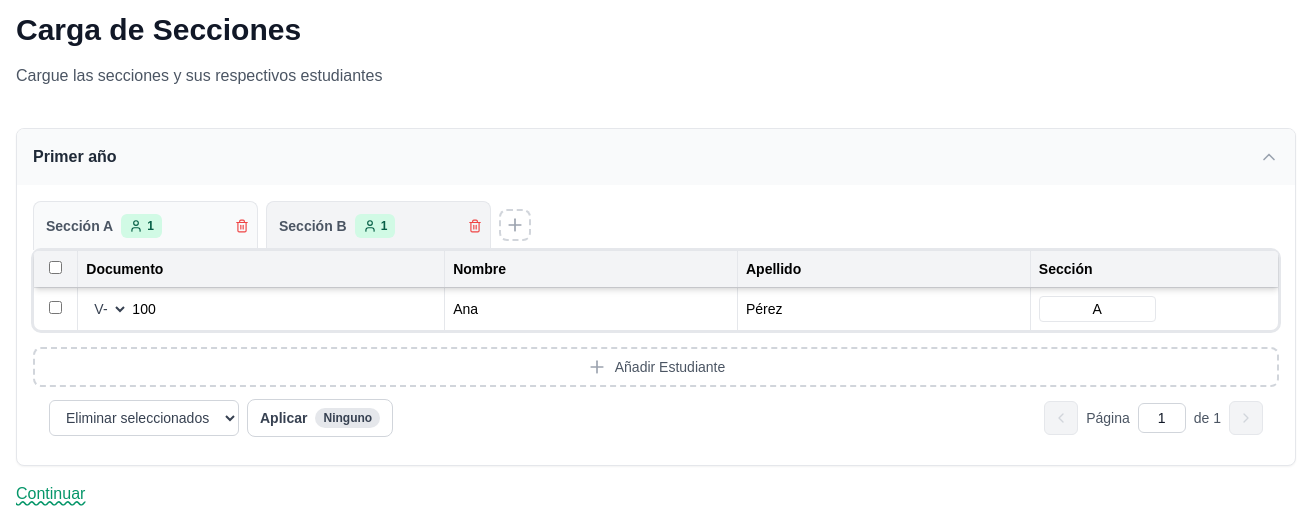
Test: Data loading pages › renders class tabs and switches their student table
Expected: the field showing "Ana" is shown, left=453, top=299, right=729, bottom=319
Click the tab "Sección B 1". click: (337, 226)
box: left=267, top=206, right=407, bottom=246
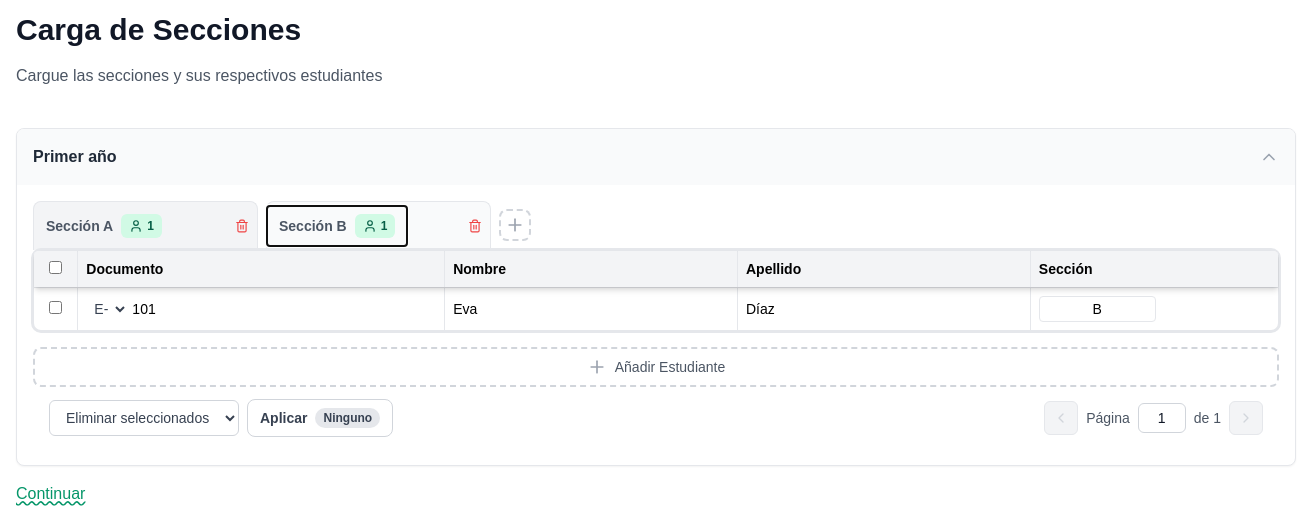
Expected: the field showing "Ana" is not shown
Expected: the field showing "Eva" is shown, left=453, top=299, right=729, bottom=319
